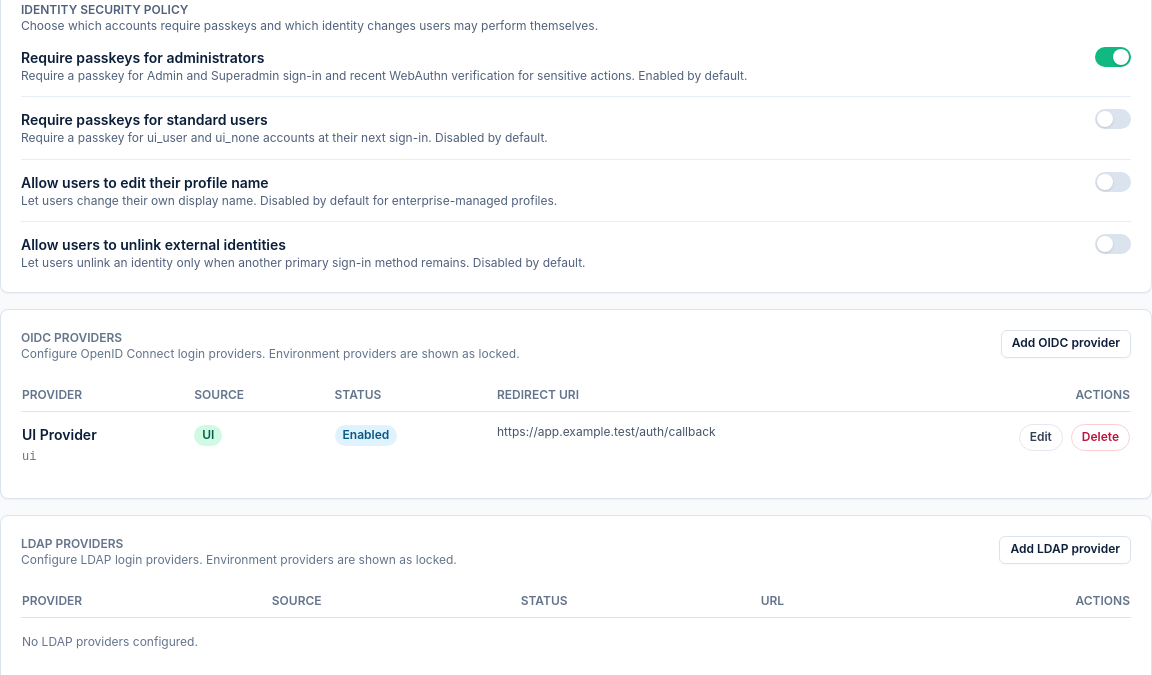
Test: AuthenticationSettingsPage › edits an OIDC provider while preserving a blank client secret
(page scrolled)
Step 1. Click the button with aria-label "Edit OIDC provider ui" → [1041, 437], box [1019,424,1063,450]
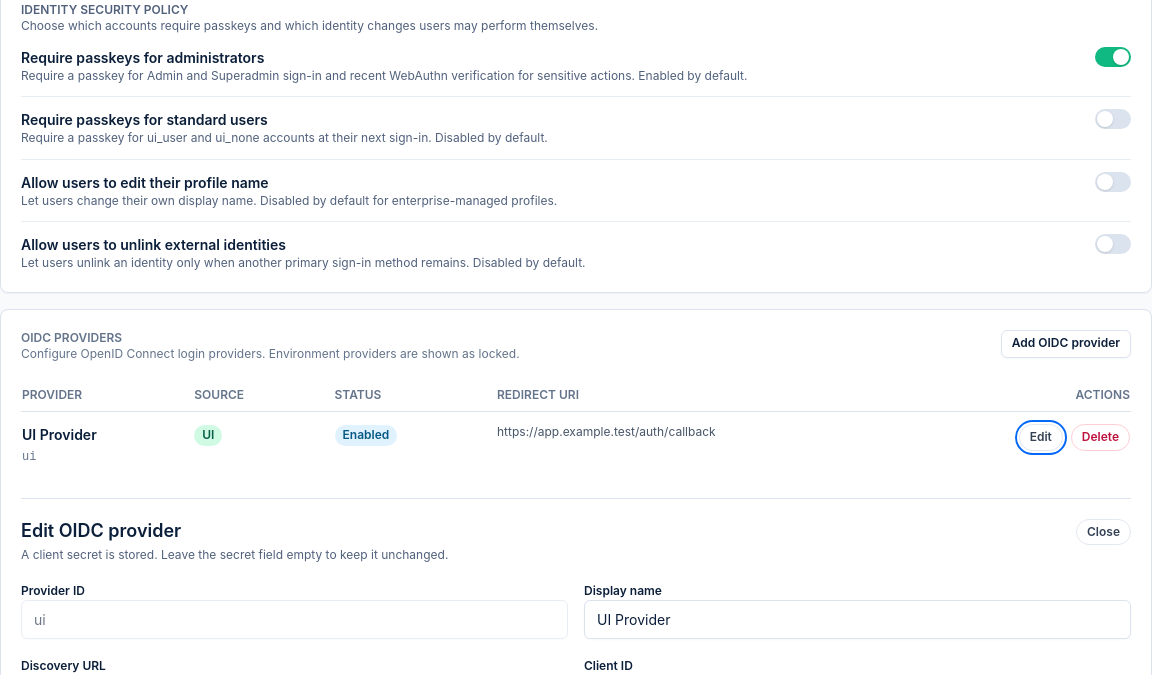
Step 2. Replace the text in the field labelled "Display name" with "Updated Provider" → [858, 619], box [584,600,1131,639]
(page scrolled)
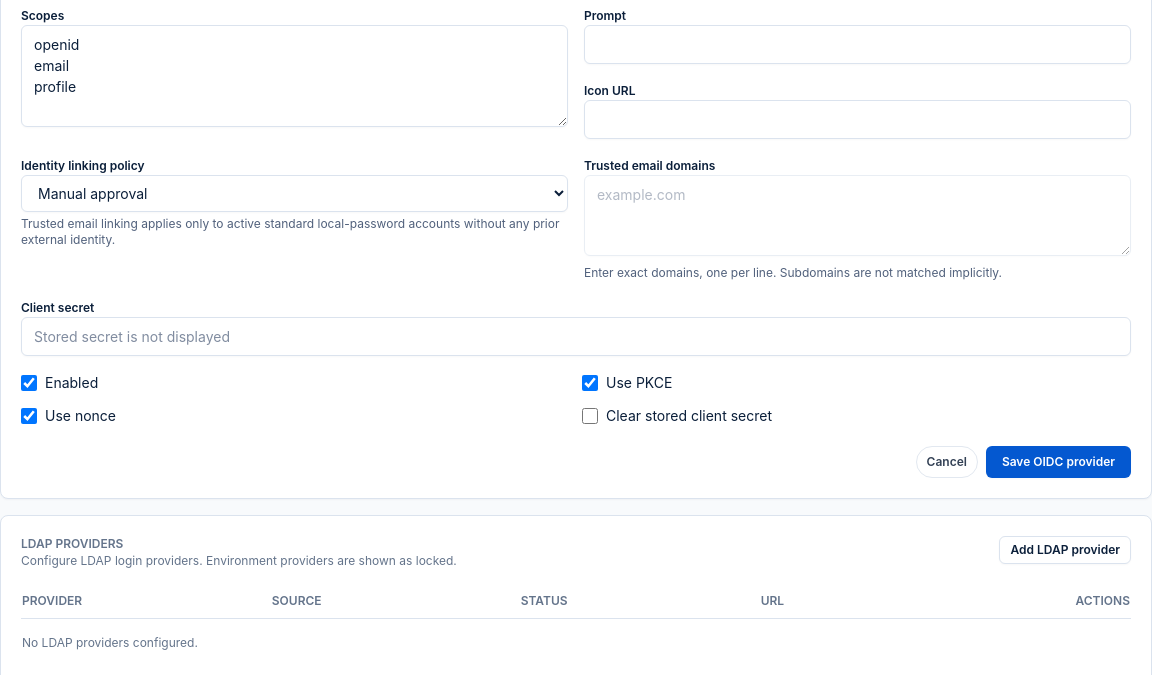
Step 3. Click the button "Save OIDC provider" → [1058, 462], box [986,446,1131,478]
(page scrolled)
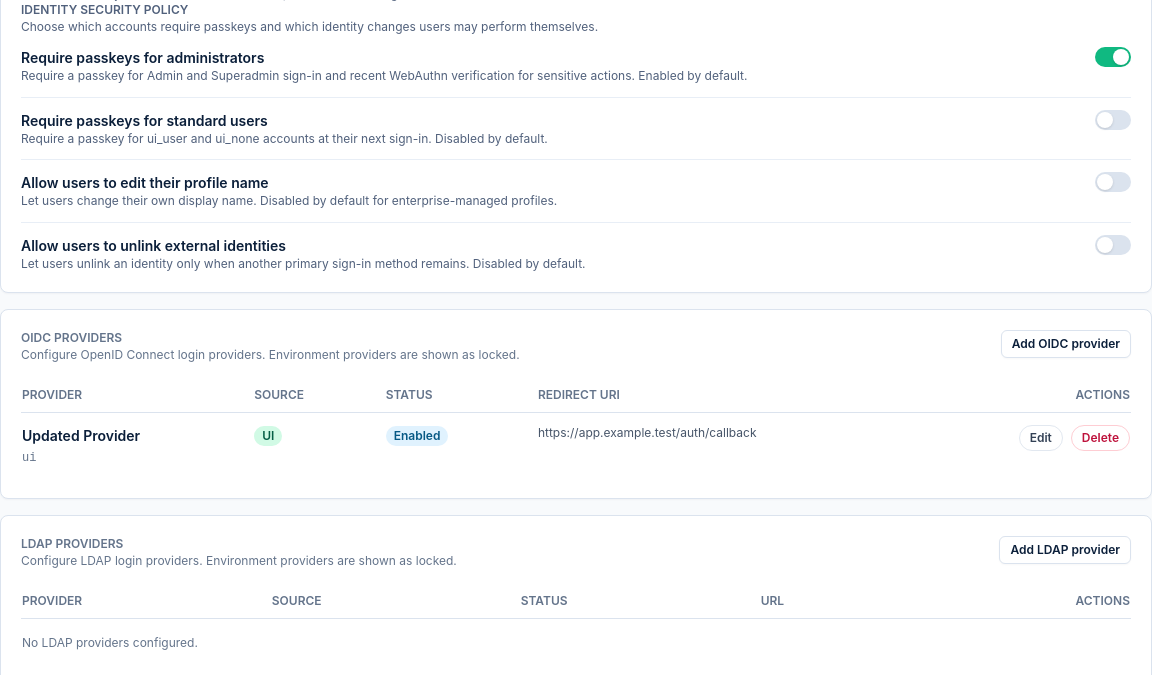
Expected: the text "Updated Provider" is shown, [22,426,140,444]
